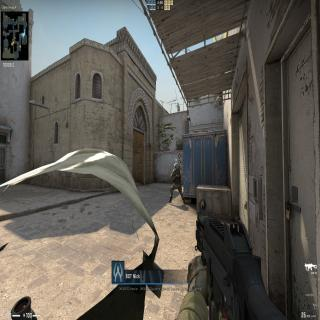CT-Head: (174, 162, 179, 170)
